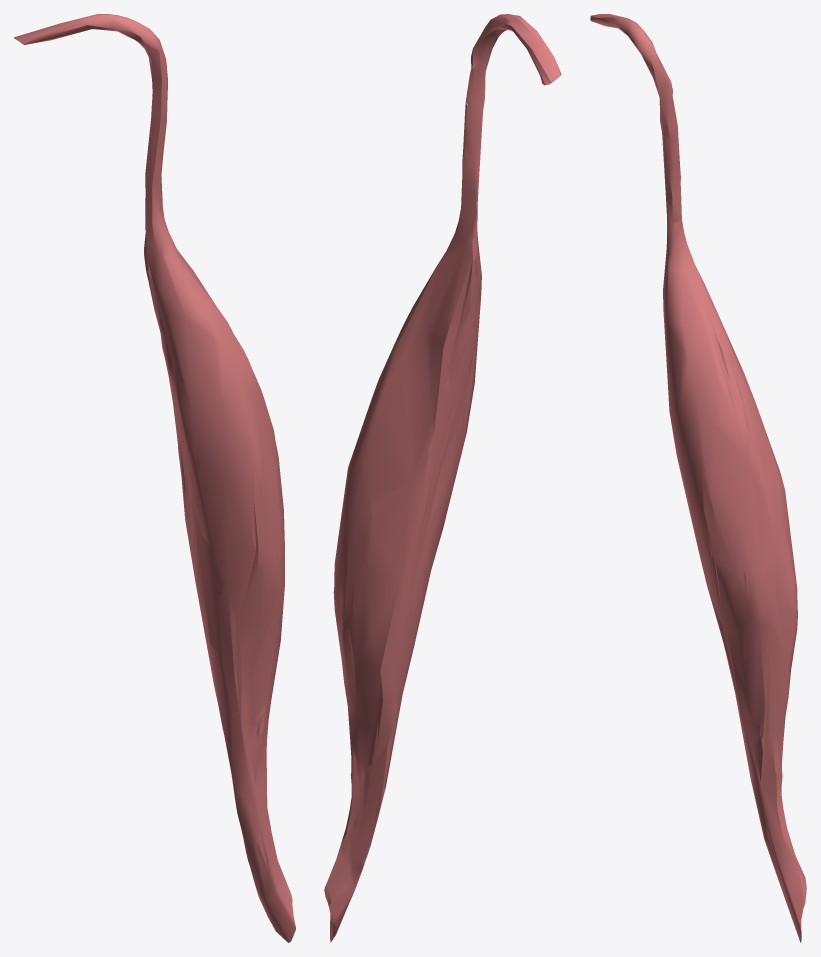
3 views of the same model, side by side, from view 1: azimuth 30°, elevation 25°; view 2: azimuth 150°, elevation 25°; view 3: azimuth 330°, elevation 25° (orthographic). The views are drawn at different scales.
Visible parts, largest first — view 1: FJ1478M; view 2: FJ1478M; view 3: FJ1478M.
Boxes of the visible parts, bbox=[...] form: FJ1478M: bbox=[14, 14, 295, 942]; FJ1478M: bbox=[324, 14, 561, 942]; FJ1478M: bbox=[590, 14, 806, 942].
Bounding box in the file's own units: 0.0941 × 0.3435 × 0.0413.
